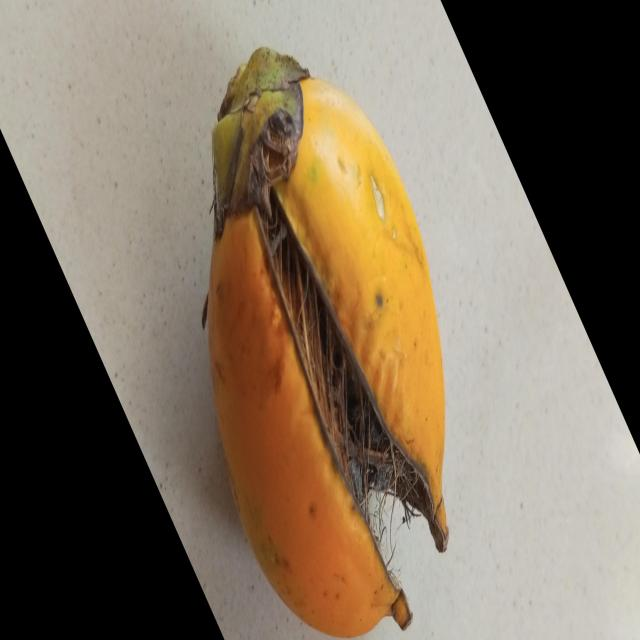damaged: (207, 47, 450, 639)
